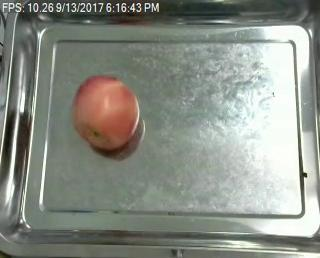apple: (72, 77, 139, 149)
